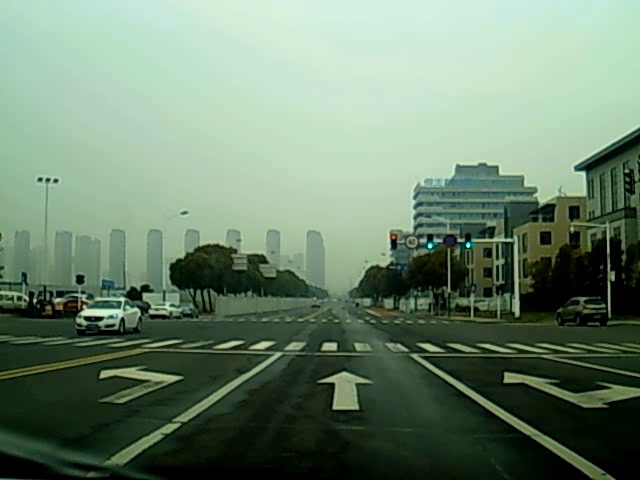Traffic_Light_go: (427, 234, 433, 251), (465, 233, 470, 251)
Traffic_Light_stop: (388, 235, 398, 251)
